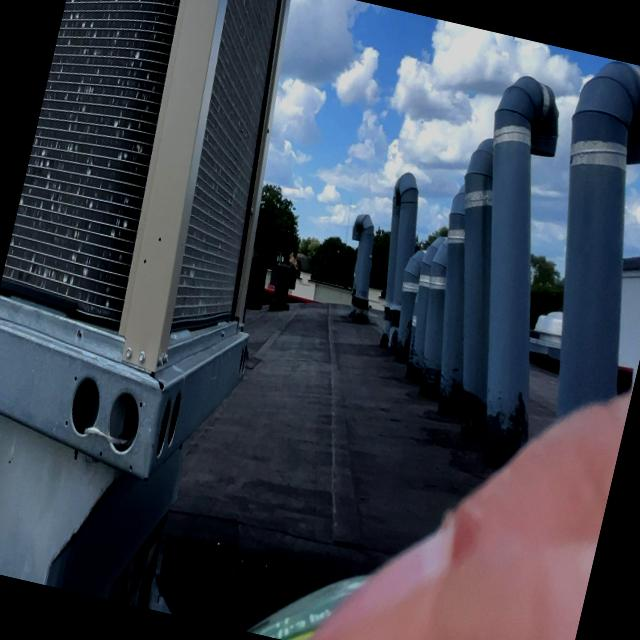GRAVITY-VENT: (428, 57, 584, 453), (514, 55, 640, 427), (418, 135, 538, 427), (408, 176, 500, 402), (362, 170, 428, 340), (409, 234, 468, 386), (394, 226, 447, 374), (330, 198, 388, 316), (390, 221, 432, 343)
RTU: (0, 0, 335, 617)
